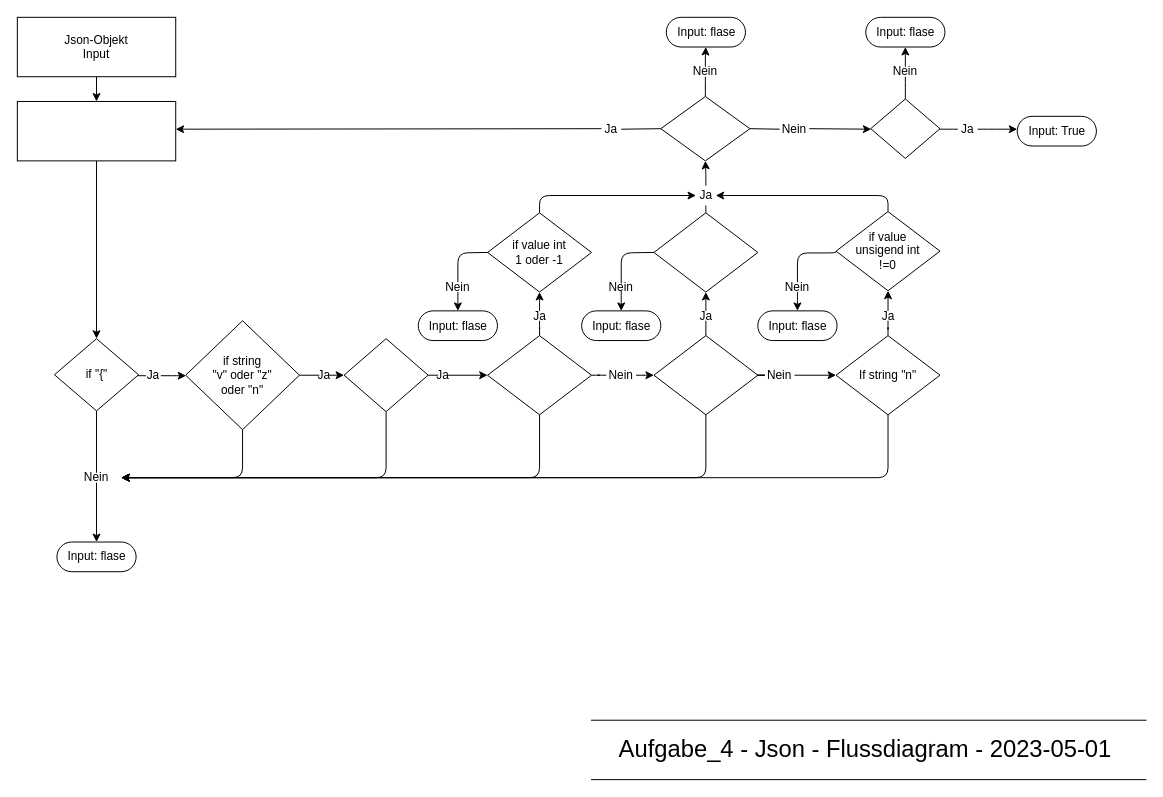
Image size: 1163x797. Some labels were removed from this diagram. The shapes that lost their labels are listed below. From the top down, each one's centre as x and y in pixels, then its label:
pixel 96 130: {"v":1, "z":4, "n":5}
pixel 705 128: if ","
pixel 905 128: if "}"
pixel 705 252: if value unsigend int
pixel 385 375: if ":"
pixel 539 375: If string "v"
pixel 705 375: If string "z"
